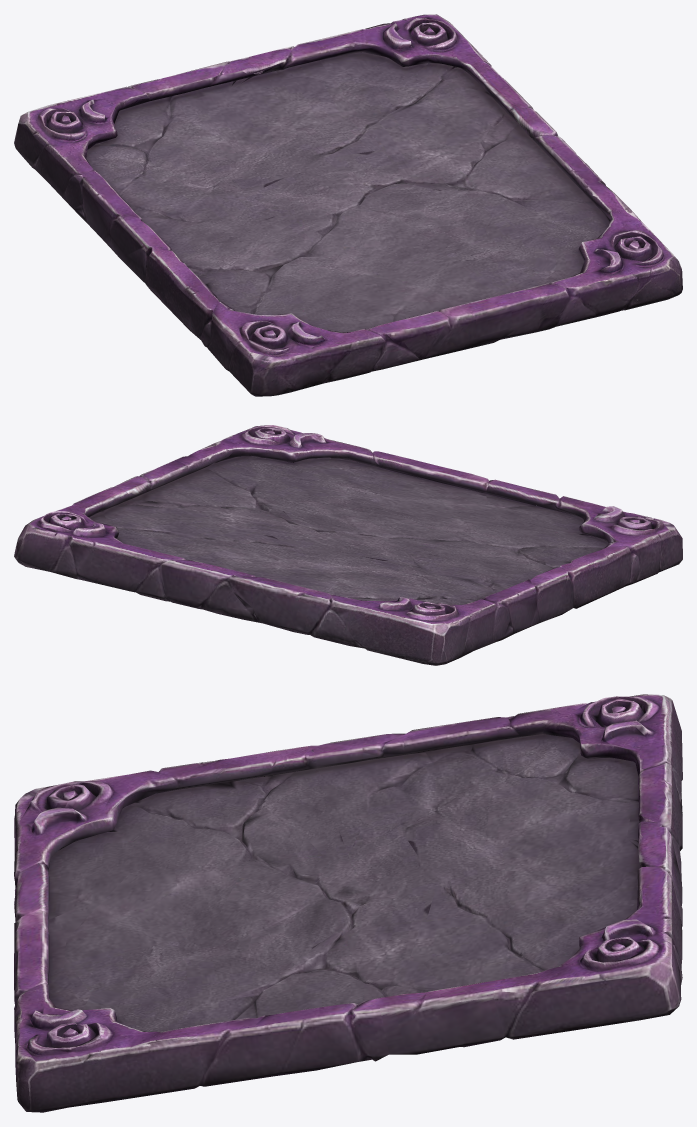
Rendered from wizard-tile.glb.
3 views of the same model, one above another, from view 1: azimuth 30°, elevation 25°; view 2: azimuth 150°, elevation 25°; view 3: azimuth 270°, elevation 25° (orthographic). The views are drawn at different scales.
Visible parts, largest first — view 1: tripo_node_1162f005-d3c9-409b-ab41-4e1273e9106a; view 2: tripo_node_1162f005-d3c9-409b-ab41-4e1273e9106a; view 3: tripo_node_1162f005-d3c9-409b-ab41-4e1273e9106a.
Part boxes in pixels (left/top/right/bottom): tripo_node_1162f005-d3c9-409b-ab41-4e1273e9106a: left=14, top=14, right=682, bottom=396; tripo_node_1162f005-d3c9-409b-ab41-4e1273e9106a: left=14, top=425, right=682, bottom=665; tripo_node_1162f005-d3c9-409b-ab41-4e1273e9106a: left=14, top=694, right=682, bottom=1112.
Size of the model in its own units: 0.9766 by 0.2494 by 0.9787.
Materials: 1 (1 with a texture image).
